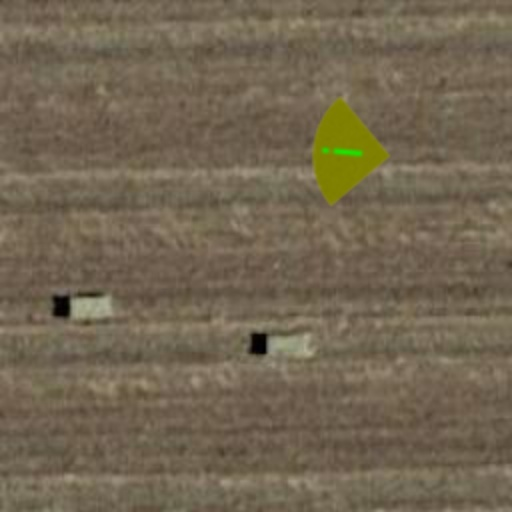quarter_circle: (286, 94, 402, 210)
